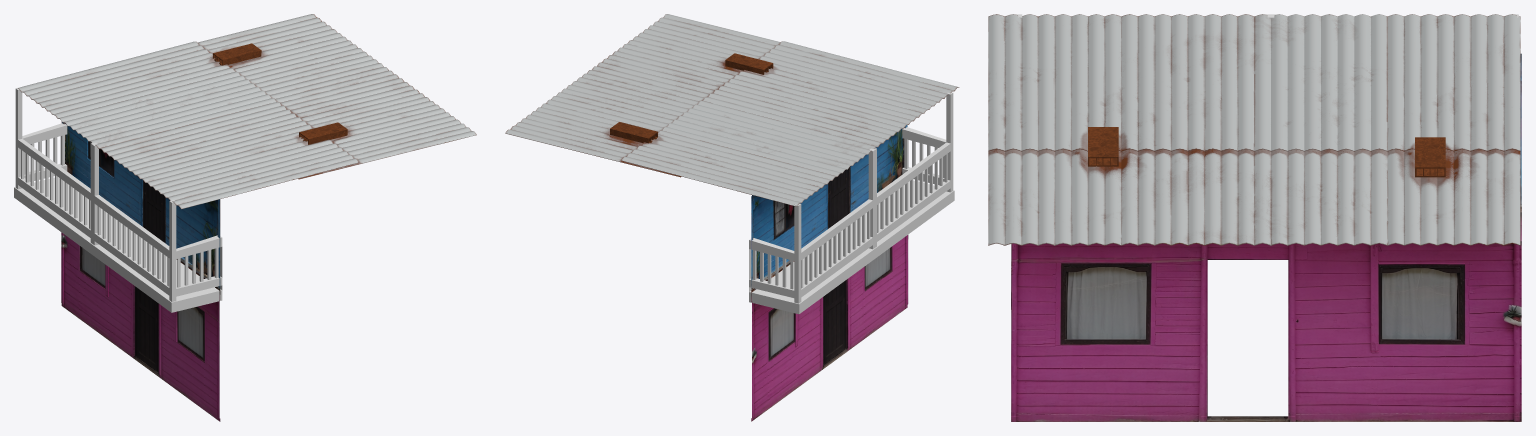
File: casa_izquierda_09.fbx
The picture shows the model from 3 angles, left to right: view 1: azimuth 30°, elevation 25°; view 2: azimuth 150°, elevation 25°; view 3: azimuth 270°, elevation 25°; orthographic projection. The views are drawn at different scales.
Visible parts, largest first — view 1: Techo 09, casa_izquierda_09.001, casa_izquierda_08A.003; view 2: Techo 09, casa_izquierda_09.001, casa_izquierda_08A.003; view 3: Techo 09, casa_izquierda_09.001.
Boxes of the visible parts, x1,y1,x2,y2 form: Techo 09: [18, 14, 476, 209]; casa_izquierda_09.001: [61, 121, 220, 421]; casa_izquierda_08A.003: [14, 87, 222, 312]; Techo 09: [505, 14, 959, 206]; casa_izquierda_09.001: [751, 125, 908, 421]; casa_izquierda_08A.003: [749, 92, 954, 314]; Techo 09: [988, 14, 1520, 245]; casa_izquierda_09.001: [1011, 53, 1521, 421].
Bounding box in the file's own units: 867 × 666 × 834.
